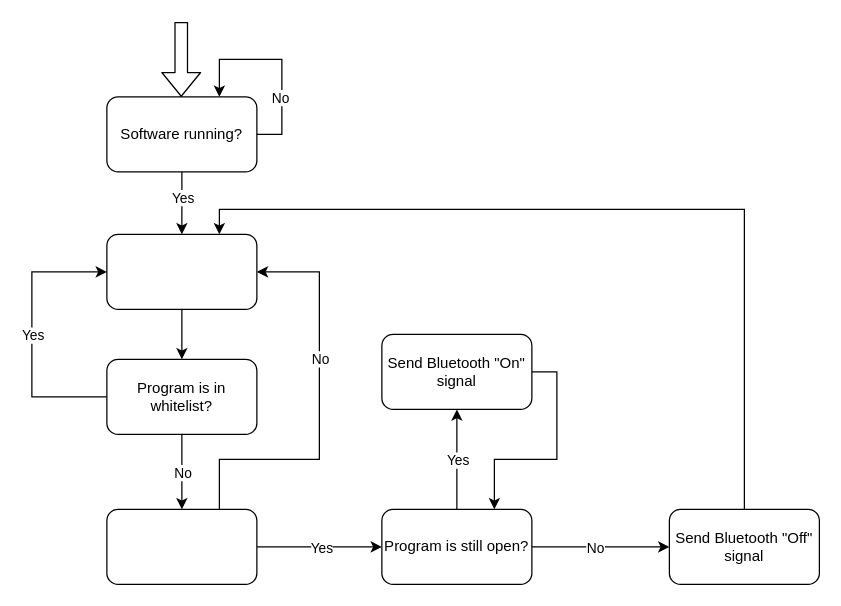
The diagram is 841 pixels wide and 606 high, and some of its shapes have lost their labels. Here are the shapes that lost their labels. From the top down, the centre of each, then its label:
At [181,271]: "For every running program:".
At [181,546]: "Program is in blacklist?".
